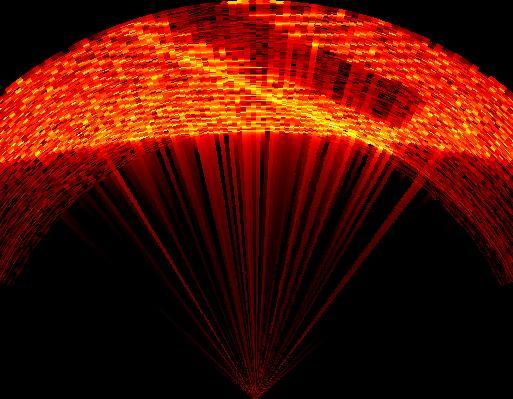pipe: (154, 2, 424, 134)
